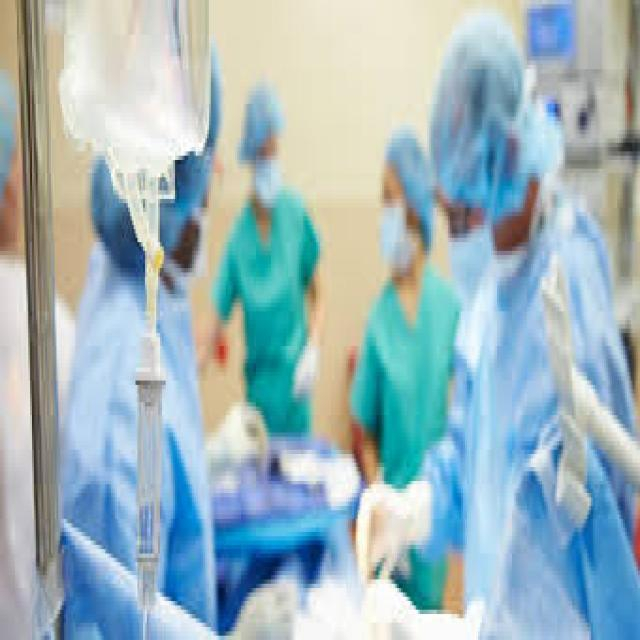iv_fluids: (68, 34, 227, 570)
